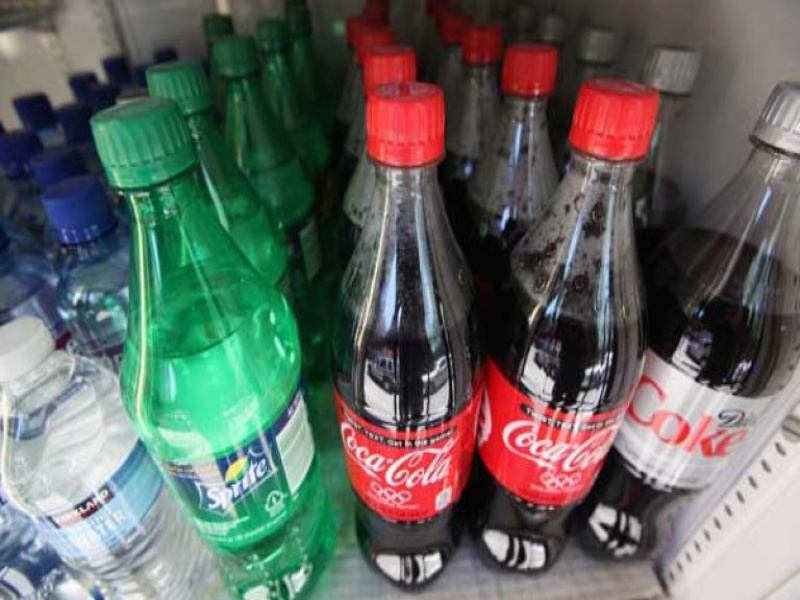Plastic bottle: (50, 78, 350, 588), (572, 54, 800, 585), (314, 61, 483, 591), (480, 57, 632, 600), (129, 45, 335, 400)
